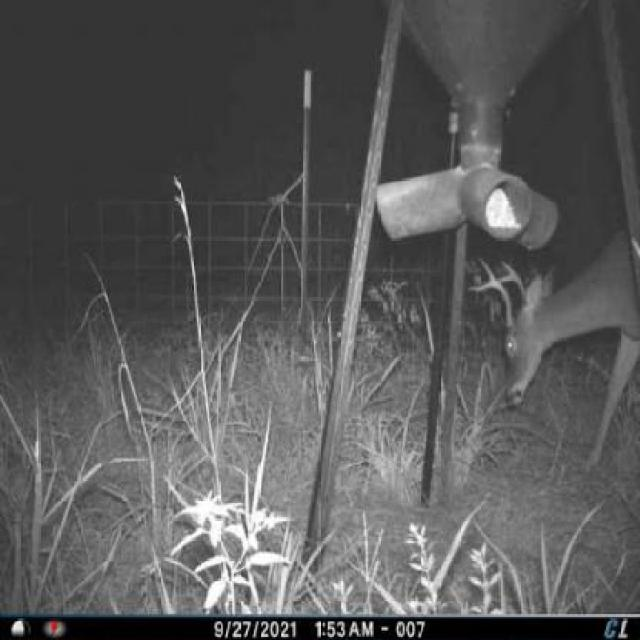Deer: (468, 226, 640, 486)
